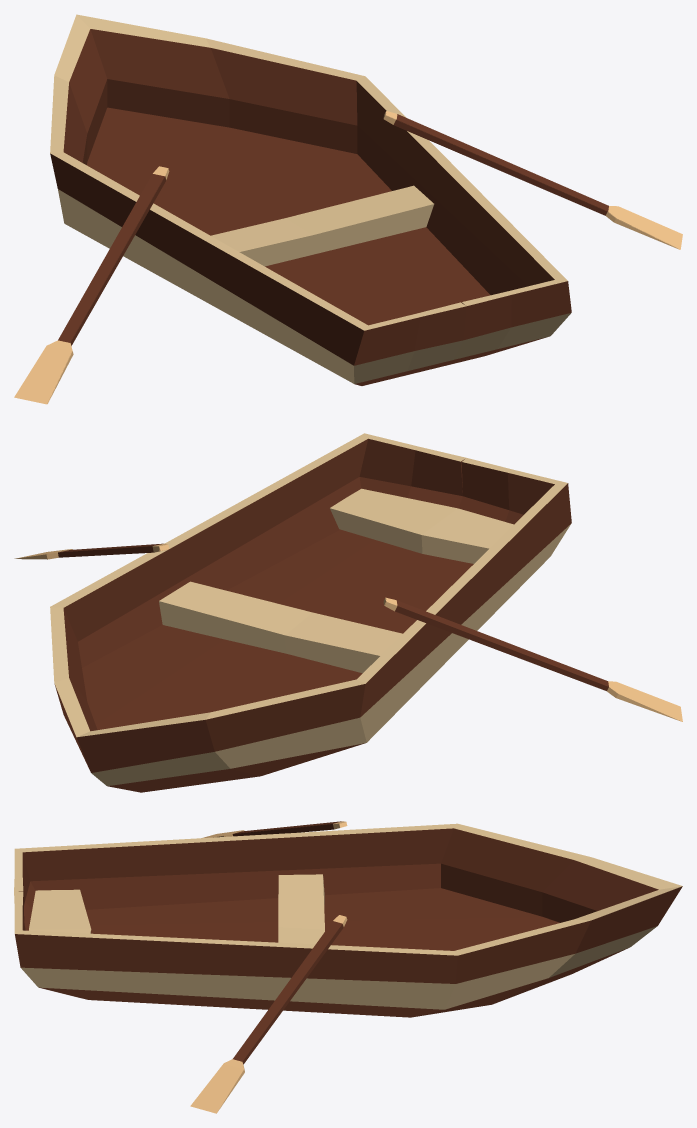
The model's file is lancha_2_low_poly.glb.
3 views of the same model, one above another, from view 1: azimuth 30°, elevation 25°; view 2: azimuth 150°, elevation 25°; view 3: azimuth 270°, elevation 25° (orthographic). The views are drawn at different scales.
Visible parts, largest first — view 1: lancha; view 2: lancha; view 3: lancha.
Boxes of the visible parts, <box> form: lancha: <box>14,14,682,404</box>; lancha: <box>14,433,682,792</box>; lancha: <box>14,821,682,1113</box>.
Bounding box in the file's own units: 363 × 63.41 × 367.
